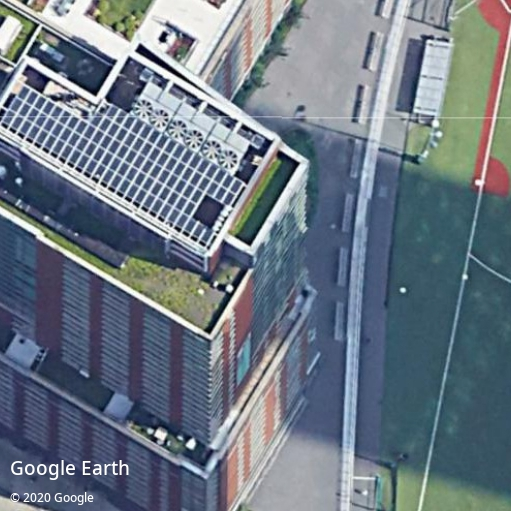Vent: (218, 150, 238, 170), (151, 109, 170, 129), (202, 140, 221, 160), (134, 100, 153, 119), (169, 120, 188, 139), (185, 129, 204, 148)
